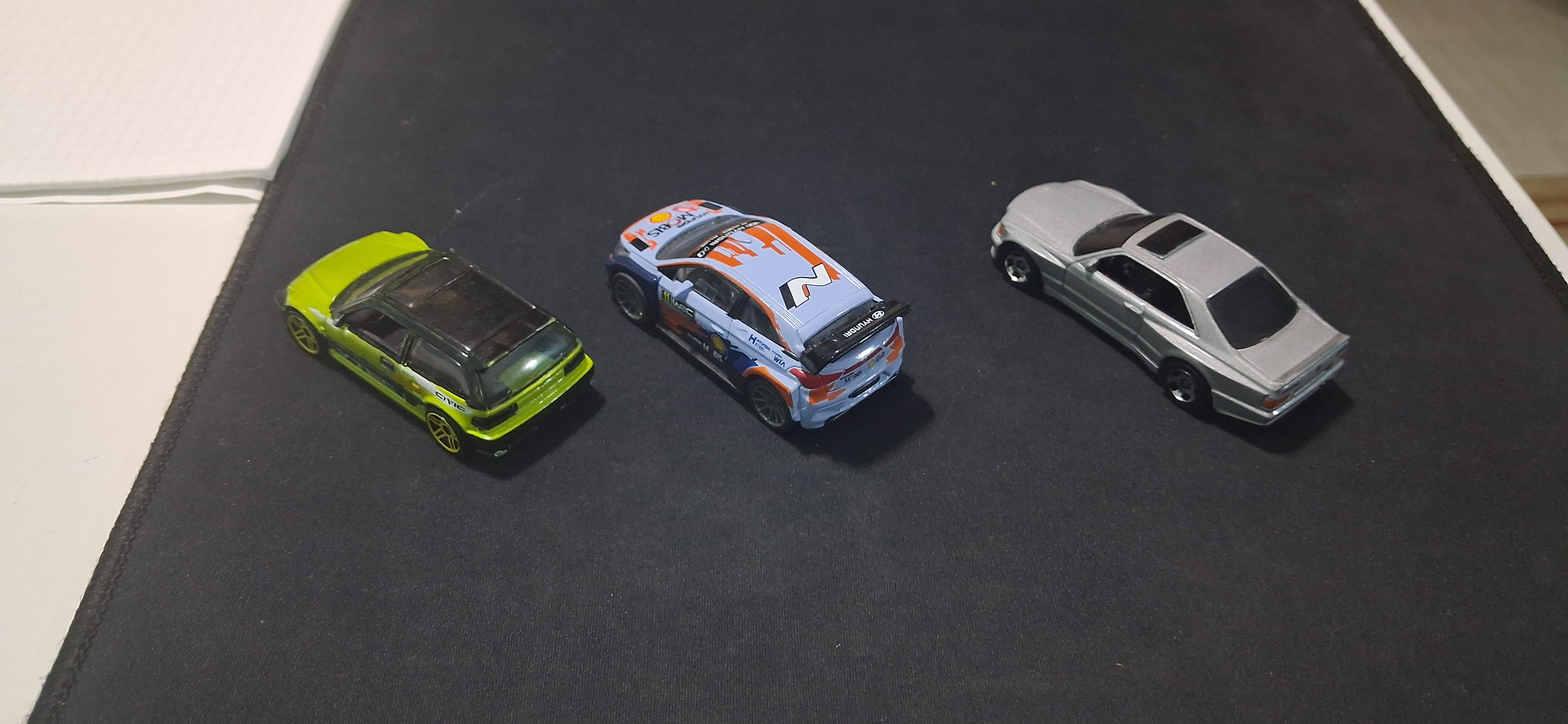Honda_Civic: (249, 228, 608, 500)
Hyundai_I20_WRC: (574, 187, 932, 460)
Mercedes_Benz_560_SEC_AMG: (956, 128, 1396, 455)
